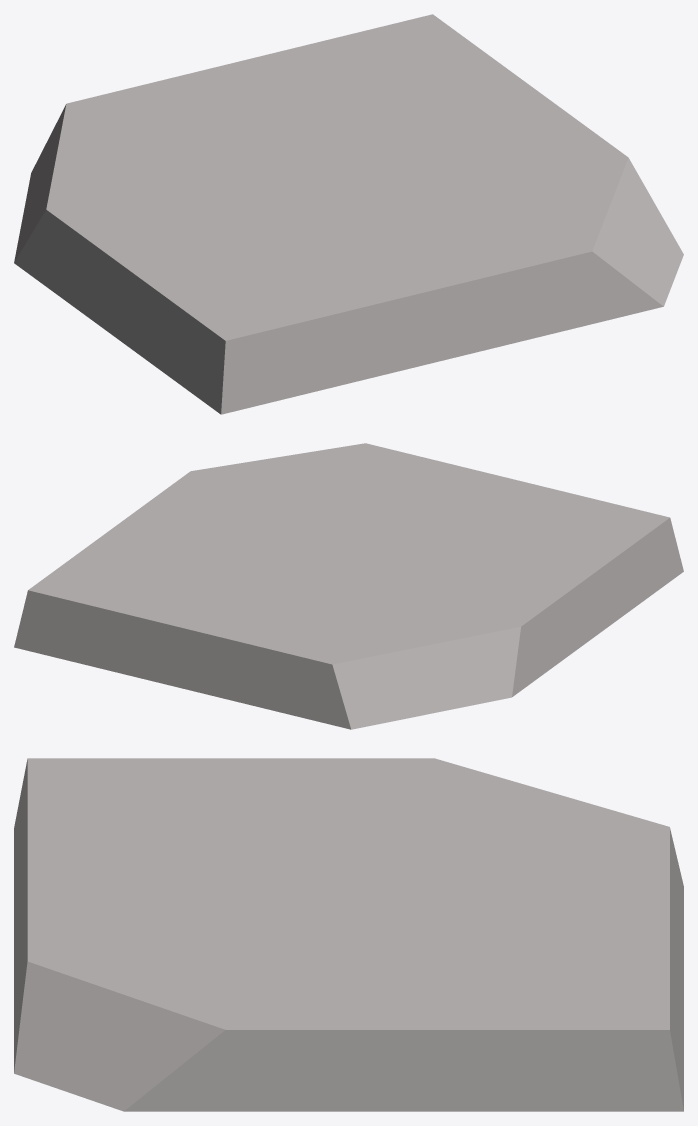
The model's file is Rock_Tile_m_06.fbx.
3 renders of one model, top to bottom at view 1: azimuth 30°, elevation 25°; view 2: azimuth 150°, elevation 25°; view 3: azimuth 270°, elevation 25°, orthographic. The views are drawn at different scales.
Visible parts, largest first — view 1: Rock_Tile_m_06; view 2: Rock_Tile_m_06; view 3: Rock_Tile_m_06.
Part boxes in pixels (x1,y1,x2,y2): Rock_Tile_m_06: [14, 14, 683, 414]; Rock_Tile_m_06: [14, 443, 683, 729]; Rock_Tile_m_06: [14, 758, 683, 1111].
Size of the model in its own units: 40 by 5 by 40.
